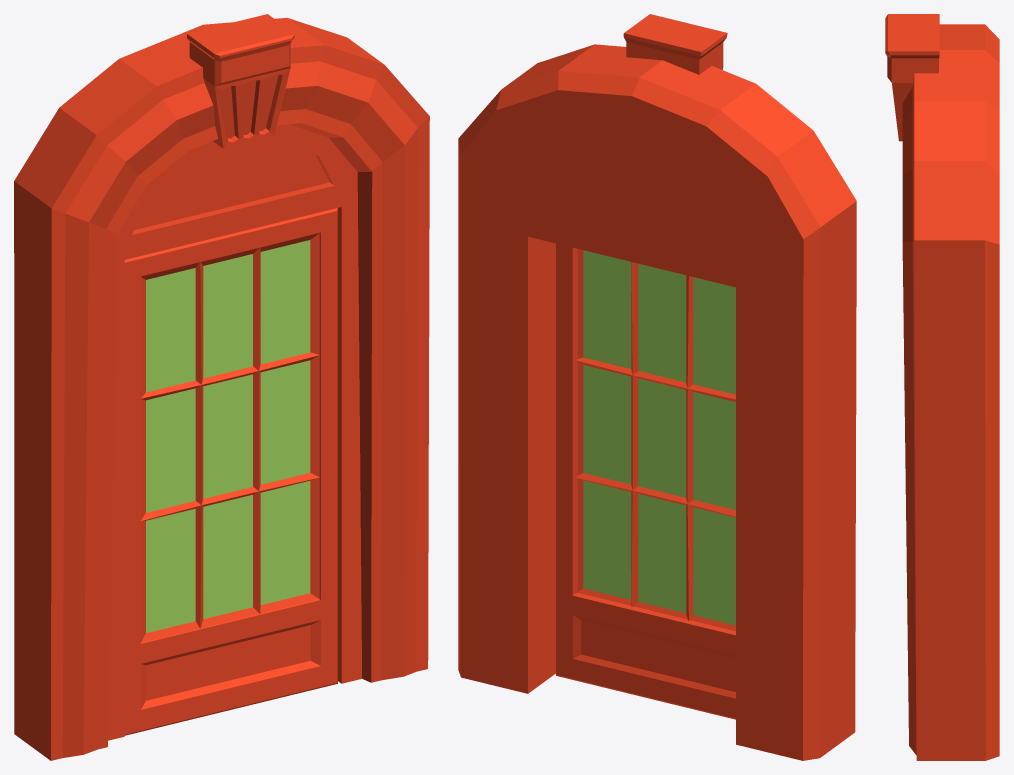
The model's file is SM_Door_Single_D_Regular_City.fbx.
The picture shows the model from 3 angles, left to right: view 1: azimuth 30°, elevation 25°; view 2: azimuth 150°, elevation 25°; view 3: azimuth 270°, elevation 25°; orthographic projection. The views are drawn at different scales.
Visible parts, largest first — view 1: SM_Door_Single_D_Regular_City_Frame, SM_Door_Single_D_Regular_City_Door; view 2: SM_Door_Single_D_Regular_City_Frame, SM_Door_Single_D_Regular_City_Door; view 3: SM_Door_Single_D_Regular_City_Frame.
Boxes of the visible parts, box(x1,y1,x2,y2) form: SM_Door_Single_D_Regular_City_Frame: box(14, 14, 429, 760); SM_Door_Single_D_Regular_City_Door: box(124, 208, 337, 735); SM_Door_Single_D_Regular_City_Frame: box(458, 14, 856, 760); SM_Door_Single_D_Regular_City_Door: box(556, 243, 735, 719); SM_Door_Single_D_Regular_City_Frame: box(885, 14, 999, 760).
Bounding box in the file's own units: 1.74 × 3.02 × 0.4846.
